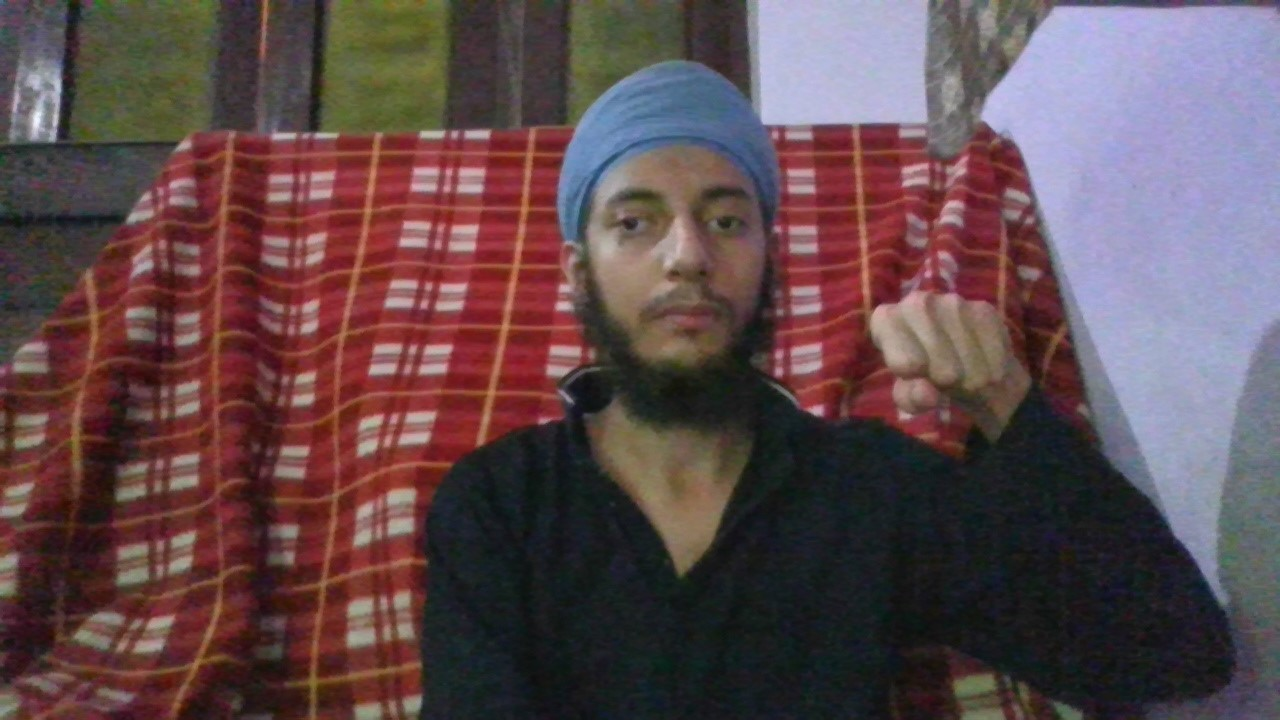Yes: (872, 287, 1018, 410)
